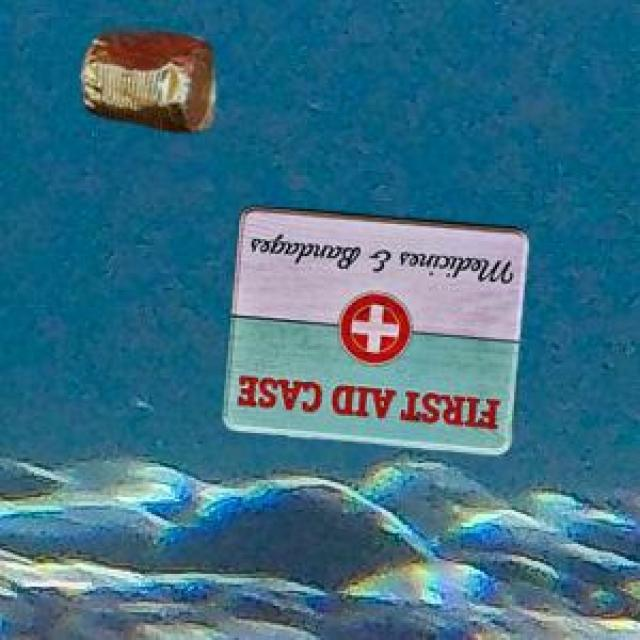logam: (221, 204, 526, 451), (78, 33, 212, 129)
